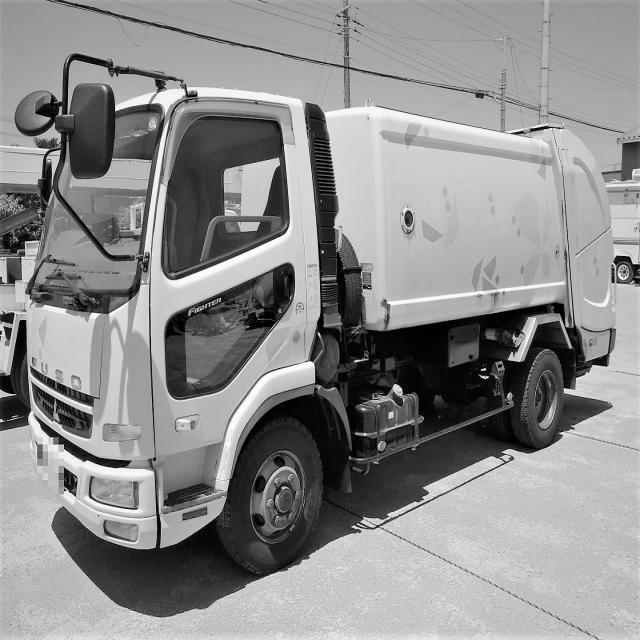truck: (1, 60, 379, 565)
